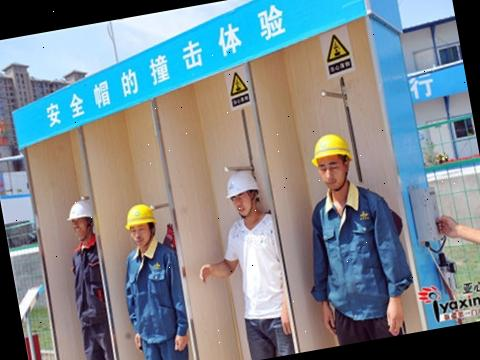helmet: (308, 130, 351, 166), (222, 168, 261, 198), (121, 200, 159, 230), (64, 196, 96, 222)
no_wear: (228, 216, 292, 327)
wear: (306, 183, 410, 326), (126, 244, 190, 346), (66, 234, 115, 328)
